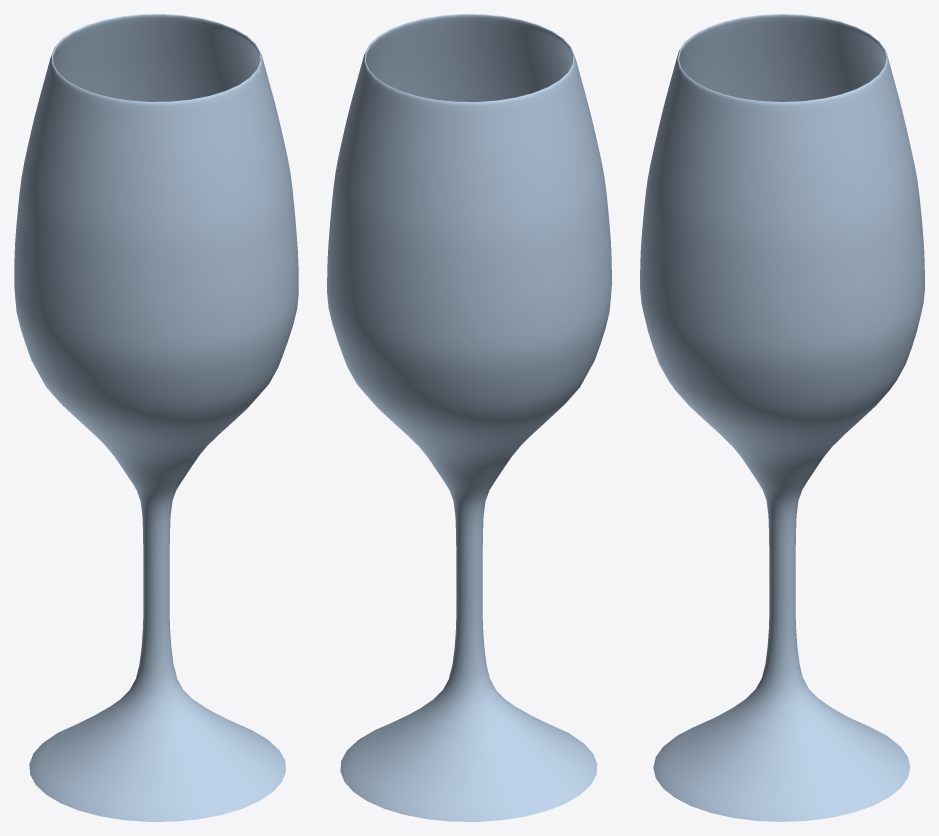
File: wine.glb
3 views of the same model, side by side, from view 1: azimuth 30°, elevation 25°; view 2: azimuth 150°, elevation 25°; view 3: azimuth 270°, elevation 25° (orthographic).
Visible parts, largest first — view 1: Glass; view 2: Glass; view 3: Glass.
Part boxes in pixels (x1,y1,x2,y2): Glass: [14, 14, 298, 821]; Glass: [327, 14, 611, 821]; Glass: [640, 14, 924, 821].
Bounding box in the file's own units: 1.16 × 3.19 × 1.16.
